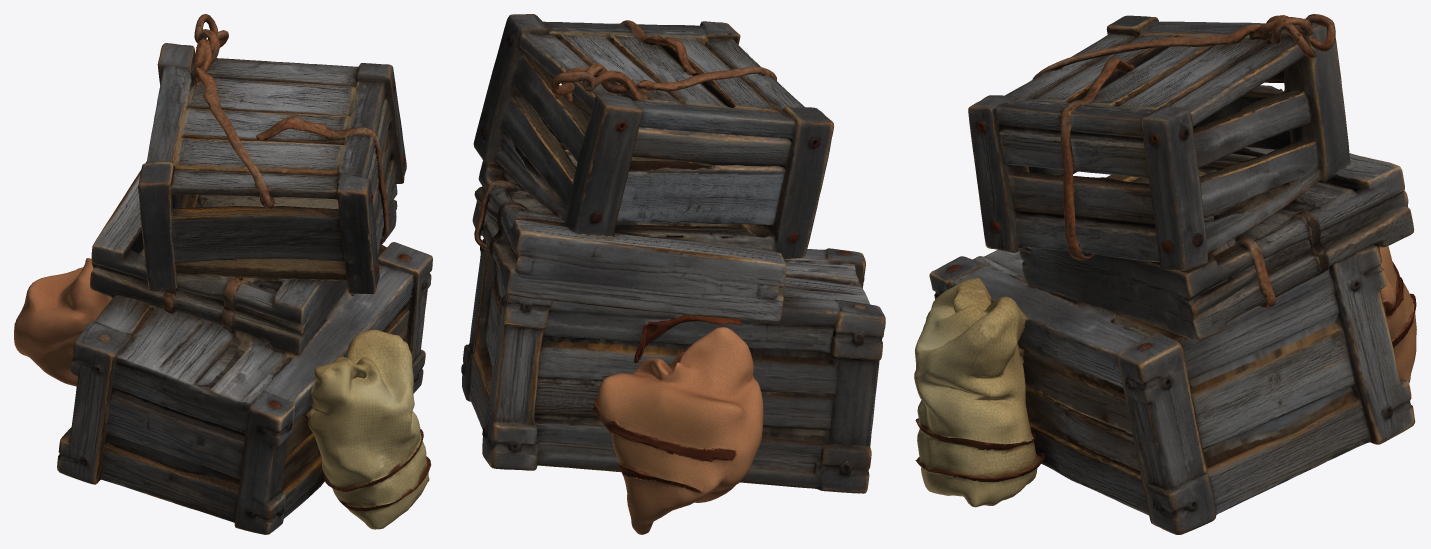
File: crates.glb
3 renders of one model, left to right at view 1: azimuth 30°, elevation 25°; view 2: azimuth 150°, elevation 25°; view 3: azimuth 270°, elevation 25°, orthographic. The views are drawn at different scales.
Size of the model in its own units: 0.8271 by 0.8646 by 0.8408.
1 material, 1 textured.
